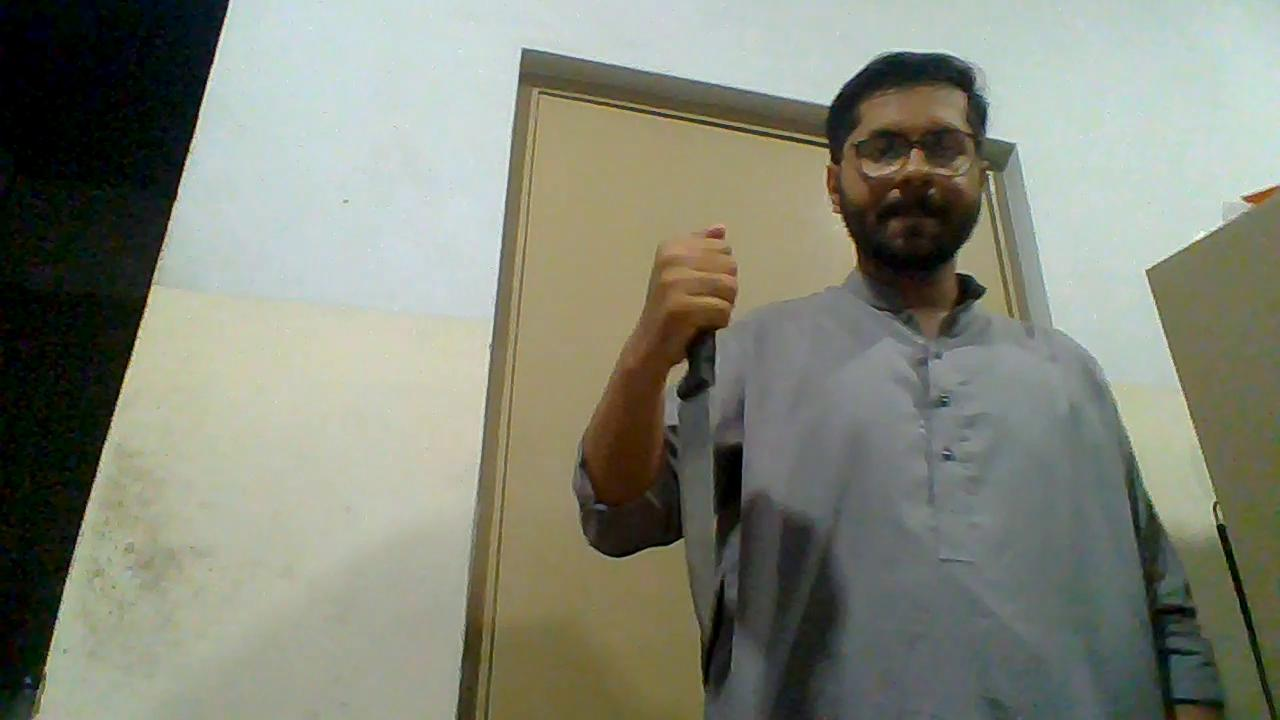weapon: (679, 312, 721, 644)
